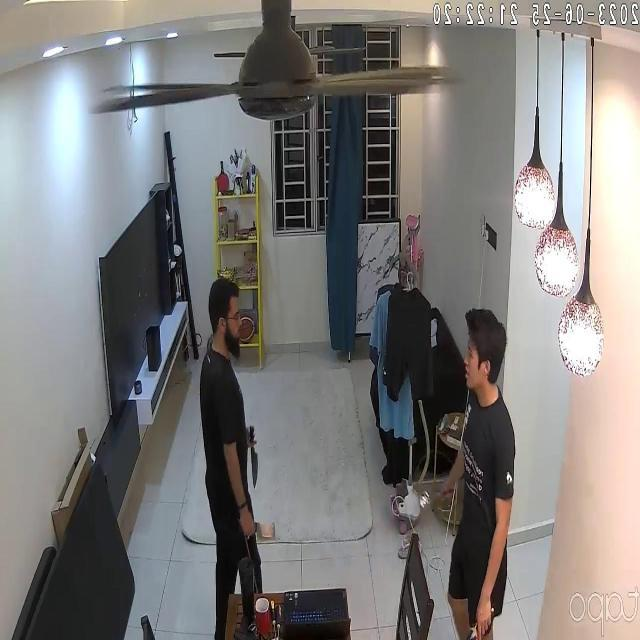Knife: (246, 428, 266, 489)
